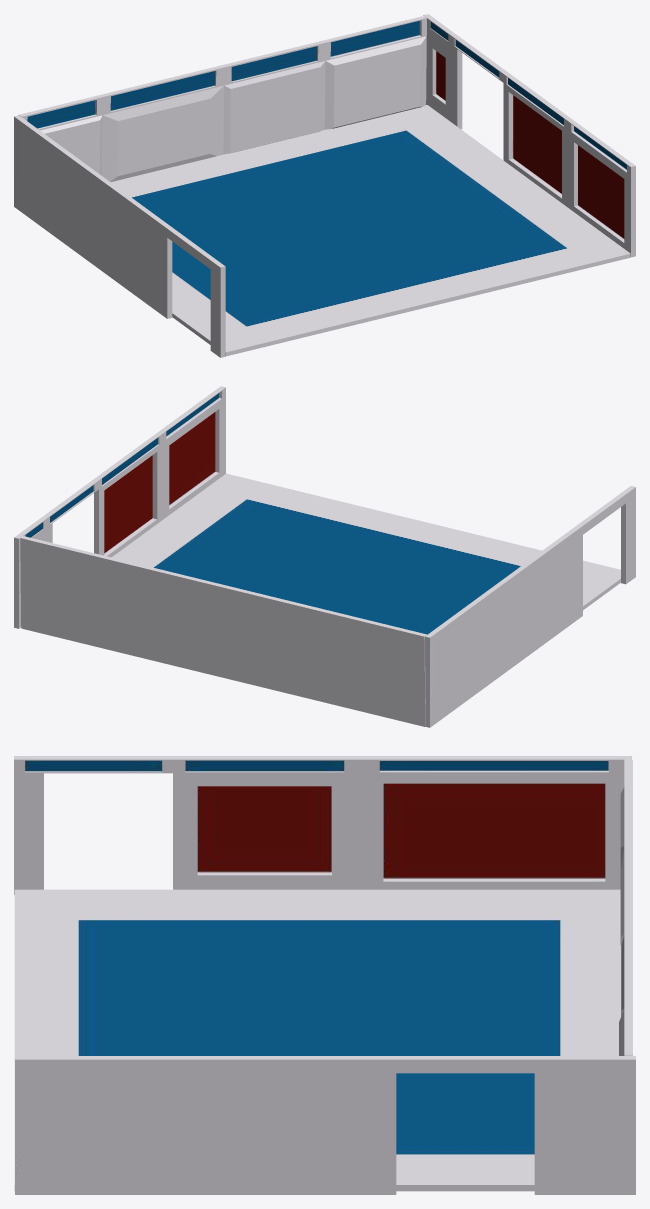
The model's file is ATO3-1.fbx.
3 renders of one model, top to bottom at view 1: azimuth 30°, elevation 25°; view 2: azimuth 150°, elevation 25°; view 3: azimuth 270°, elevation 25°, orthographic. The views are drawn at different scales.
Visible parts, largest first — view 1: PAREDE_TRAS1; view 2: PAREDE_TRAS1; view 3: PAREDE_TRAS1.
Part boxes in pixels (bbox=[...]): PAREDE_TRAS1: bbox=[14, 14, 635, 357]; PAREDE_TRAS1: bbox=[14, 386, 635, 727]; PAREDE_TRAS1: bbox=[14, 756, 635, 1194].
Size of the model in its own units: 31.05 by 6.47 by 26.88.
Materials: 1 (1 with a texture image).
